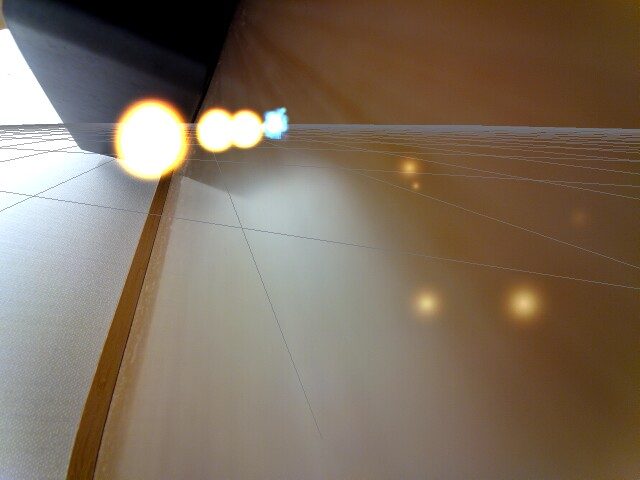firebig: (104, 92, 191, 184)
